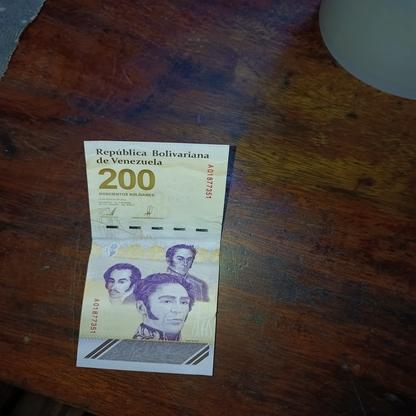two_hundred-front-vef: (74, 140, 229, 376)
